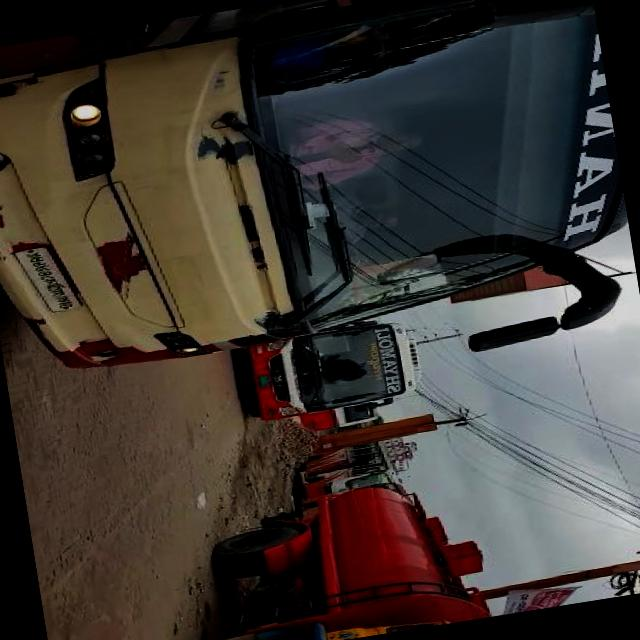bus: (0, 0, 640, 427), (242, 322, 428, 424), (290, 441, 400, 498)
truck: (184, 474, 497, 640)
